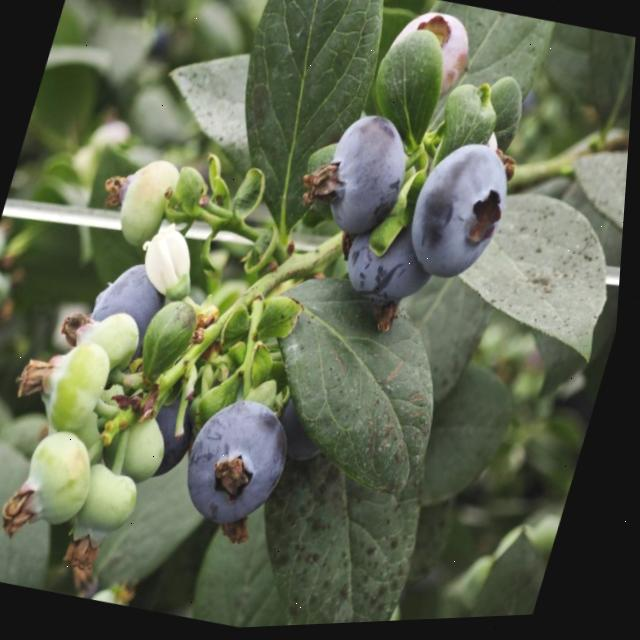RipeBlueBerry: (399, 134, 523, 293), (179, 393, 307, 536), (306, 109, 423, 249)
UnripeBlueBerry: (11, 422, 111, 539), (99, 155, 185, 252)
